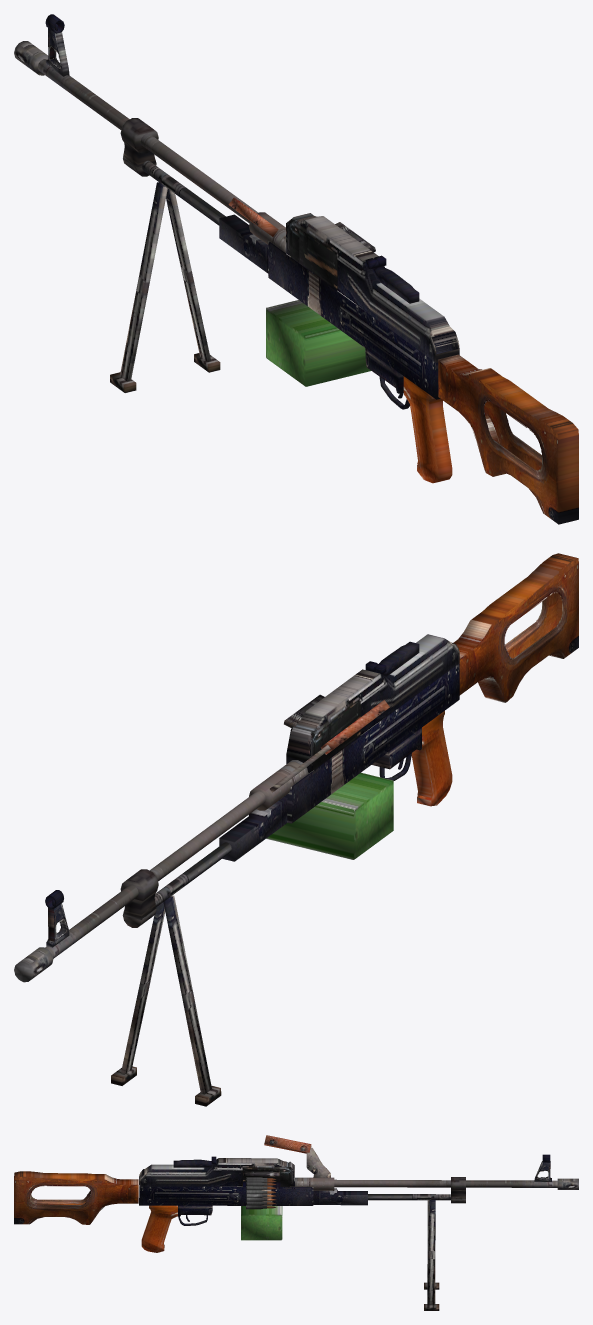
The model's file is pkm_world.fbx.
The picture shows the model from 3 angles, top to bottom: view 1: azimuth 30°, elevation 25°; view 2: azimuth 150°, elevation 25°; view 3: azimuth 270°, elevation 25°; orthographic projection. The views are drawn at different scales.
Parts seen in each view (by area): view 1: pkm; view 2: pkm; view 3: pkm.
Part boxes in pixels (box(x1,y1,x2,y2)): pkm: box(14, 14, 578, 524); pkm: box(14, 553, 578, 1106); pkm: box(14, 1135, 578, 1310).
Bounding box in the file's own units: 7.65 × 18.72 × 64.38.
1 material, 1 textured.
